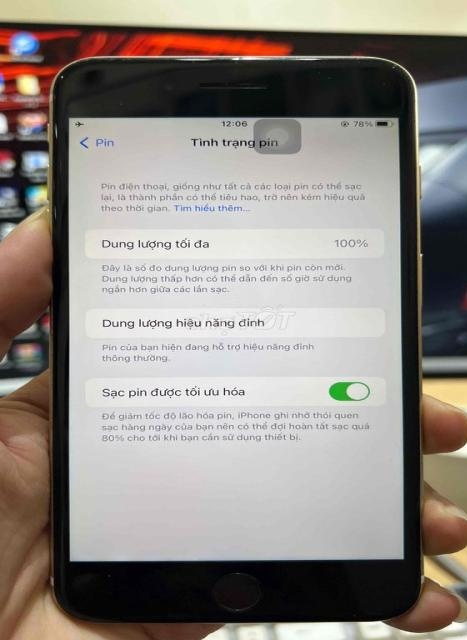scratch: (362, 54, 403, 70), (52, 70, 73, 81)
